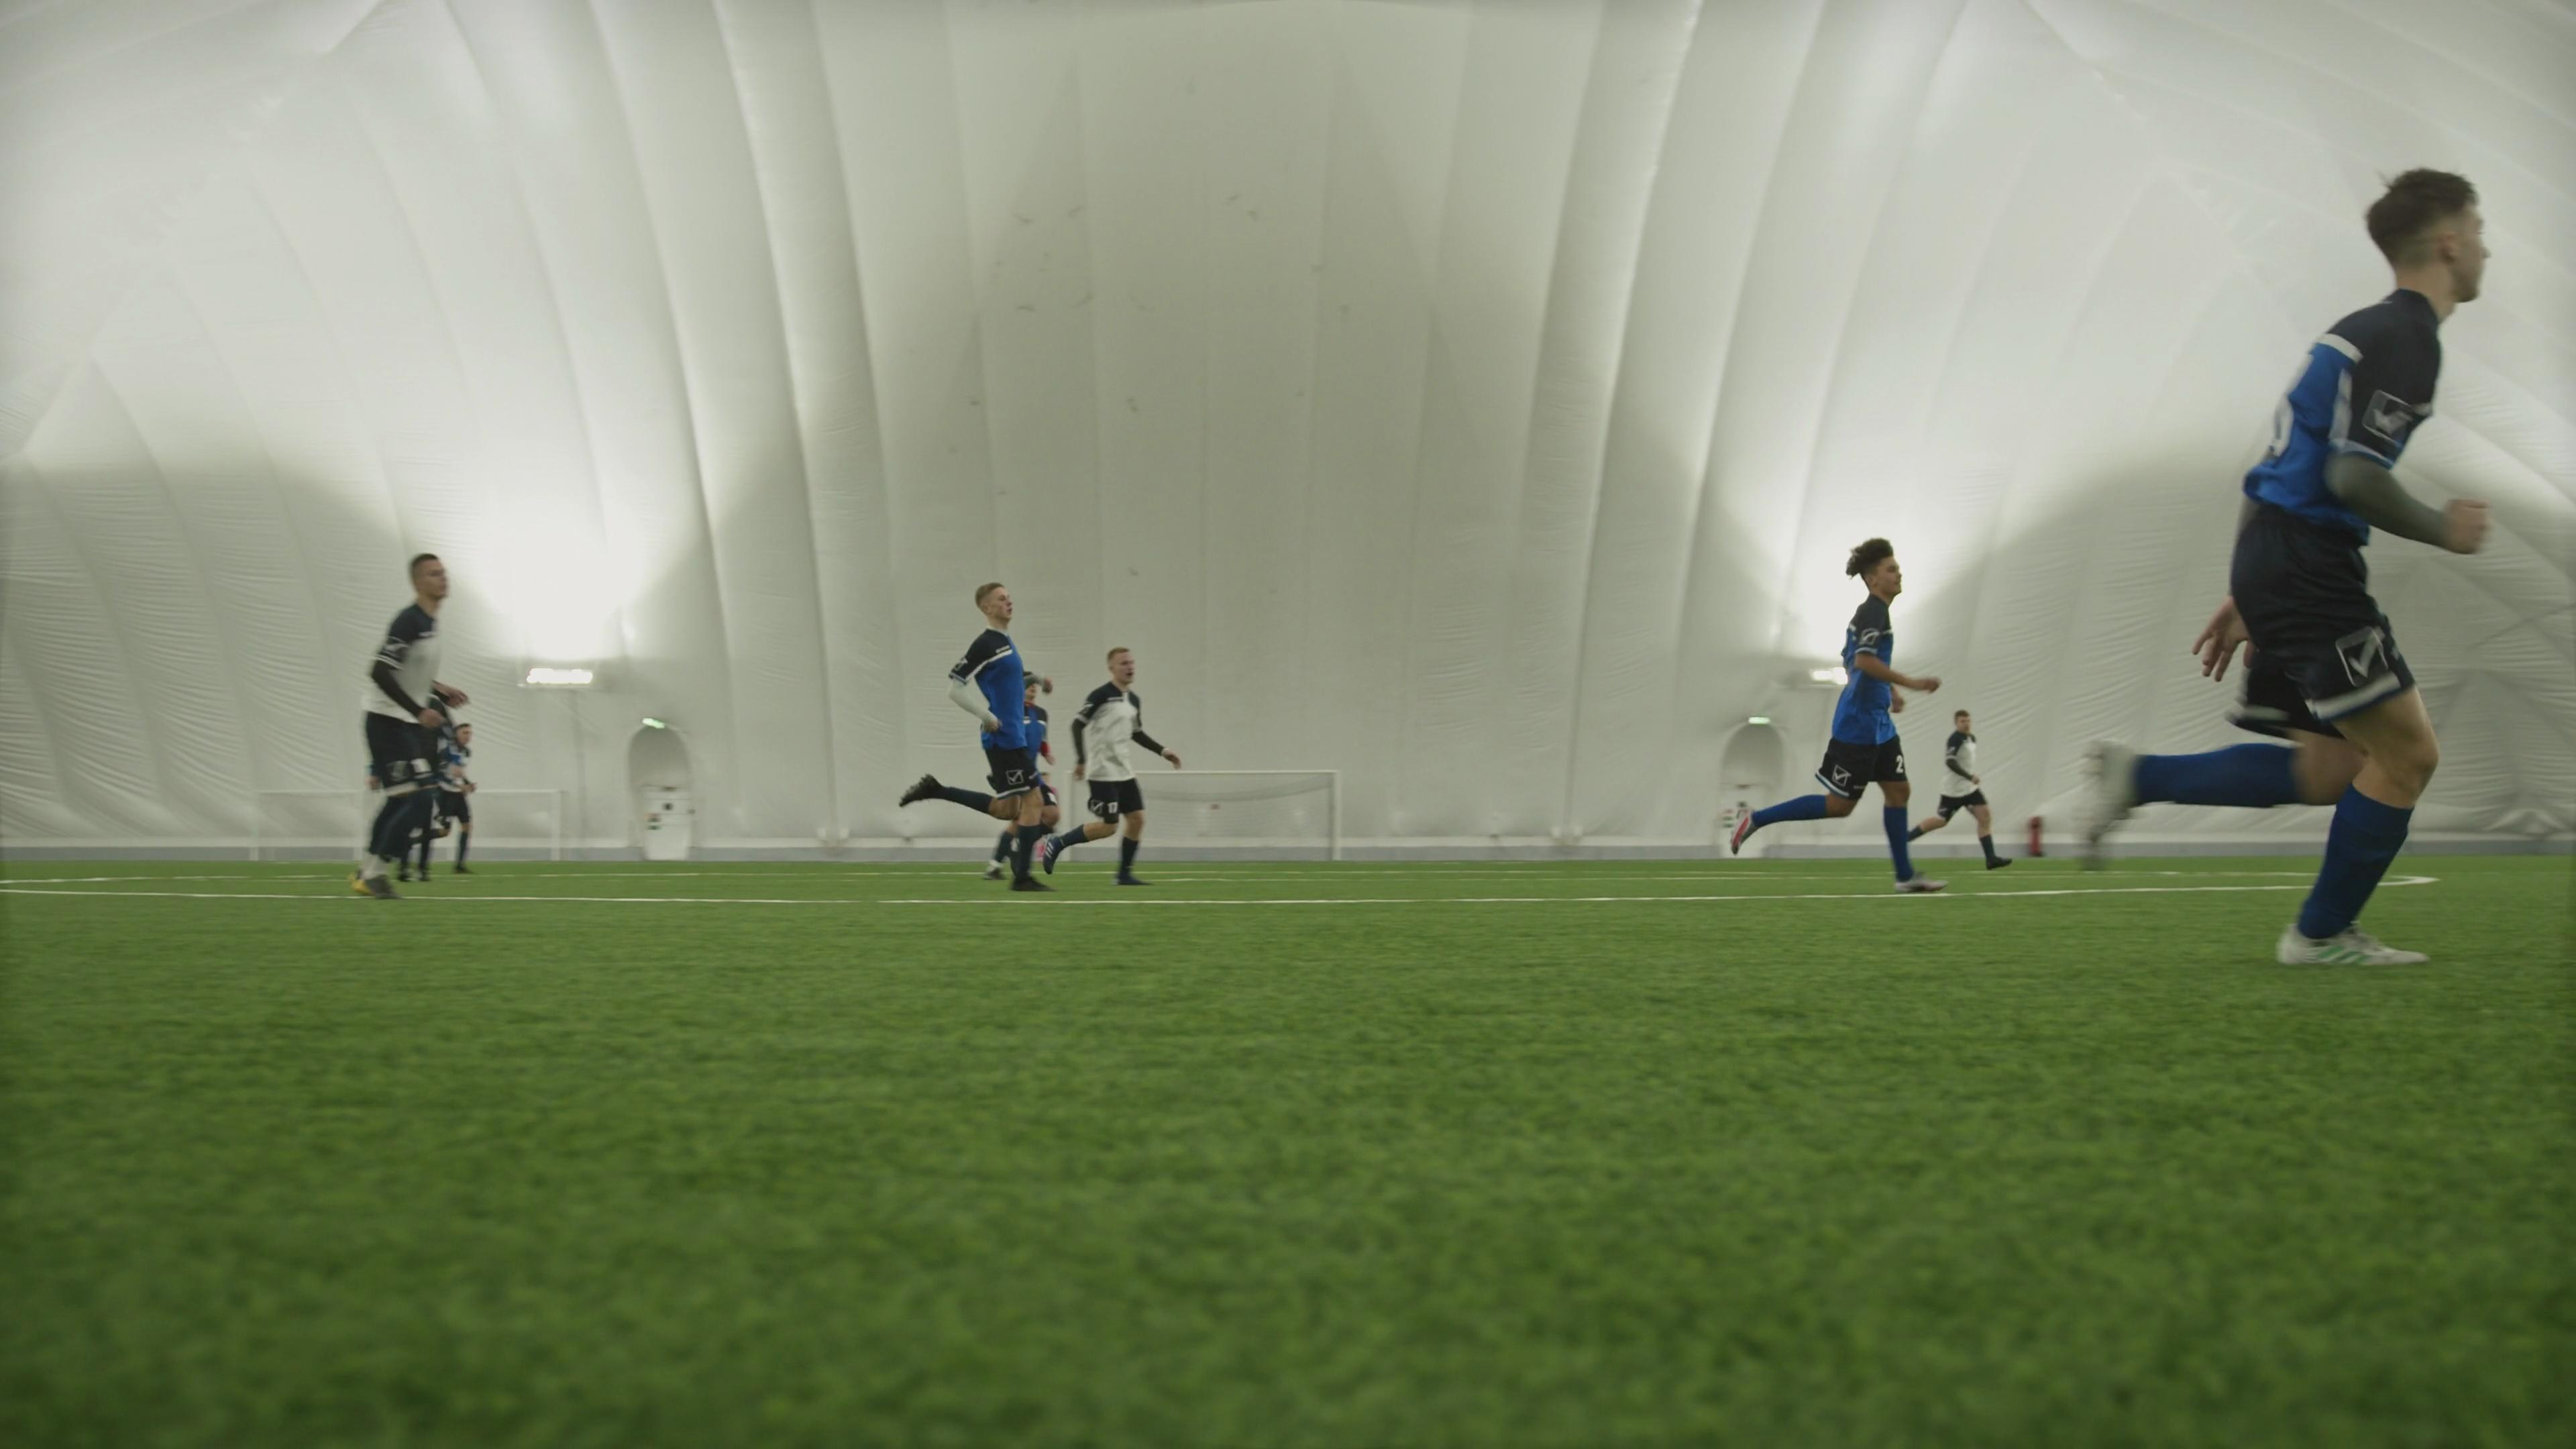team1: (2077, 165, 2495, 966), (1725, 534, 1941, 888), (904, 579, 1058, 893), (1058, 640, 1185, 890)
team2: (1005, 642, 1187, 888), (354, 548, 469, 893), (1928, 709, 1999, 865)
